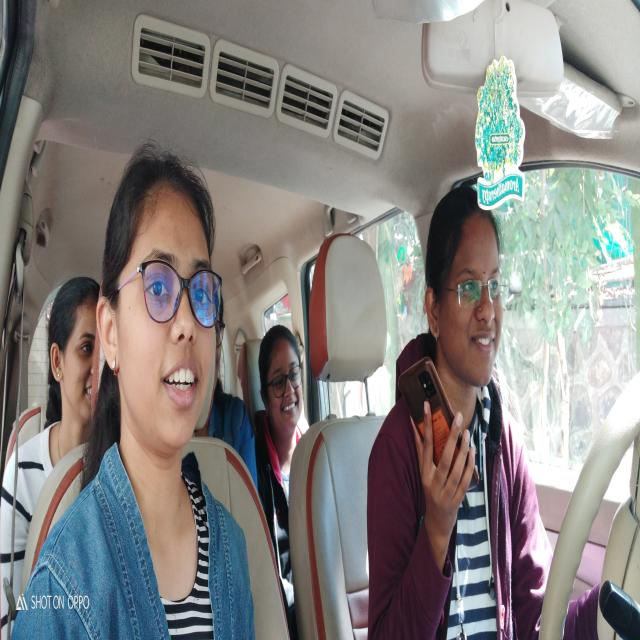mobile: (396, 356, 476, 498)
person: (93, 134, 232, 475), (423, 164, 518, 390), (39, 259, 110, 435), (252, 312, 322, 450)
